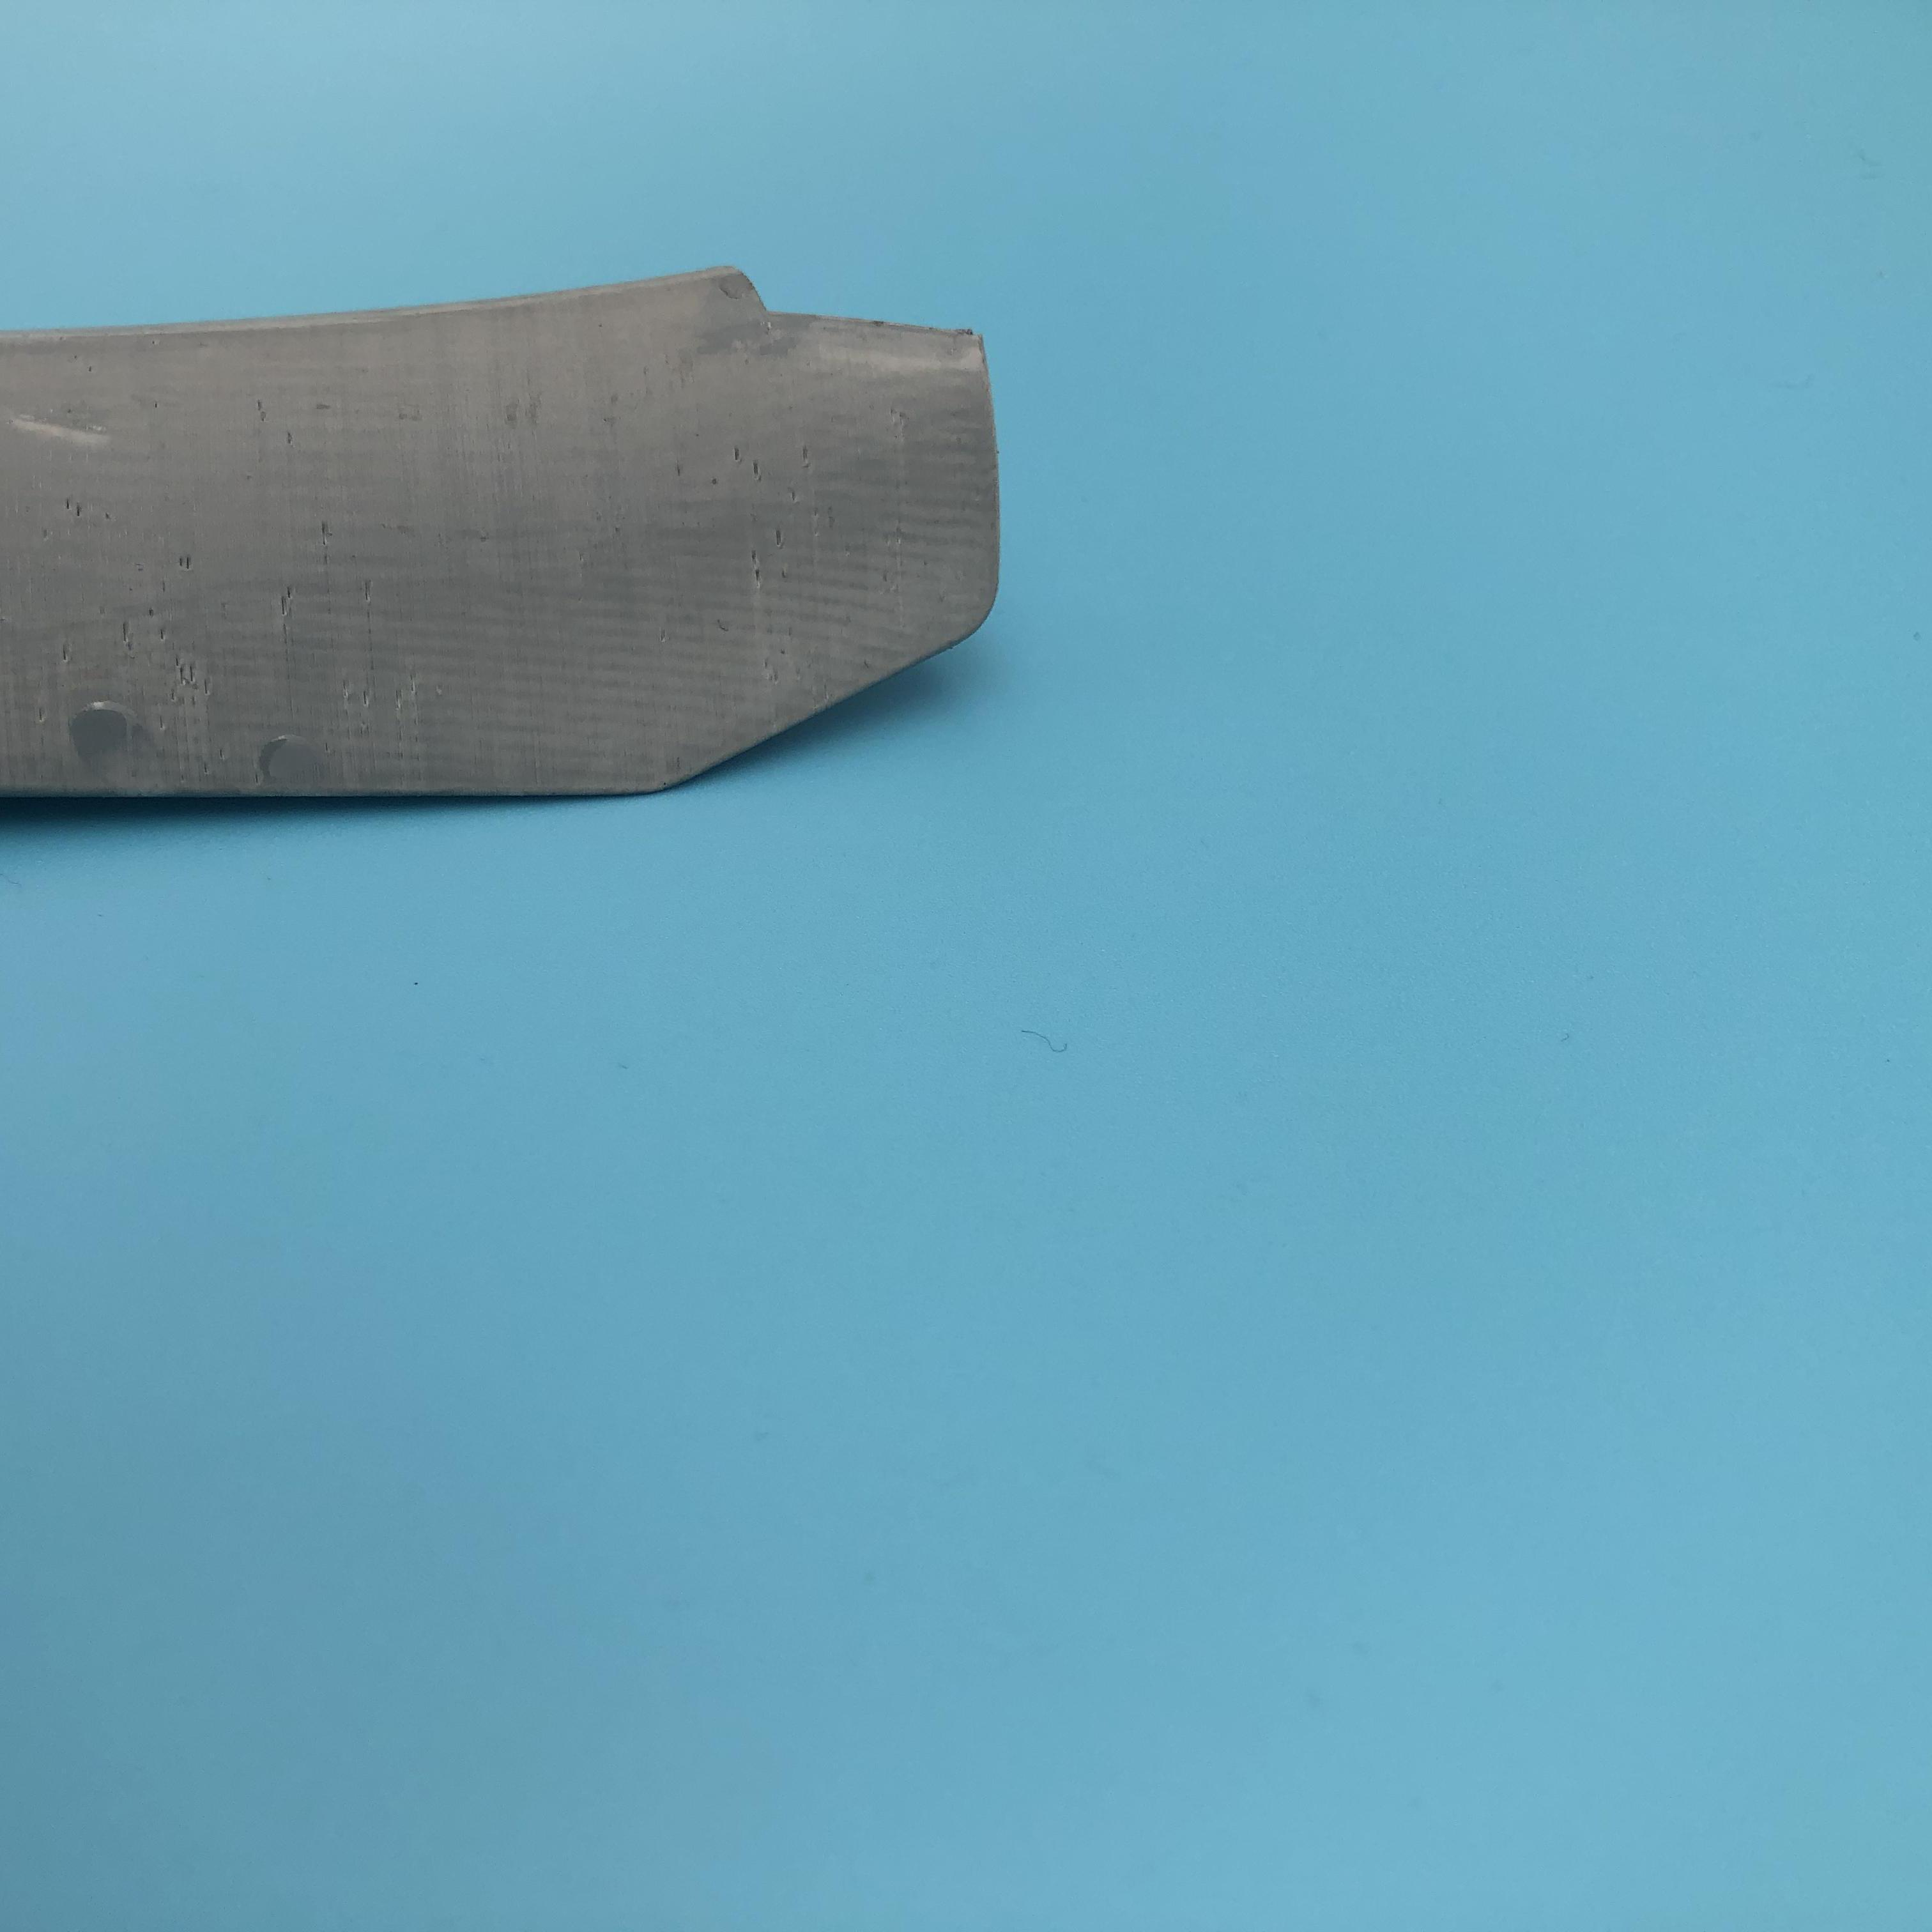fracture: (715, 265, 984, 350)
